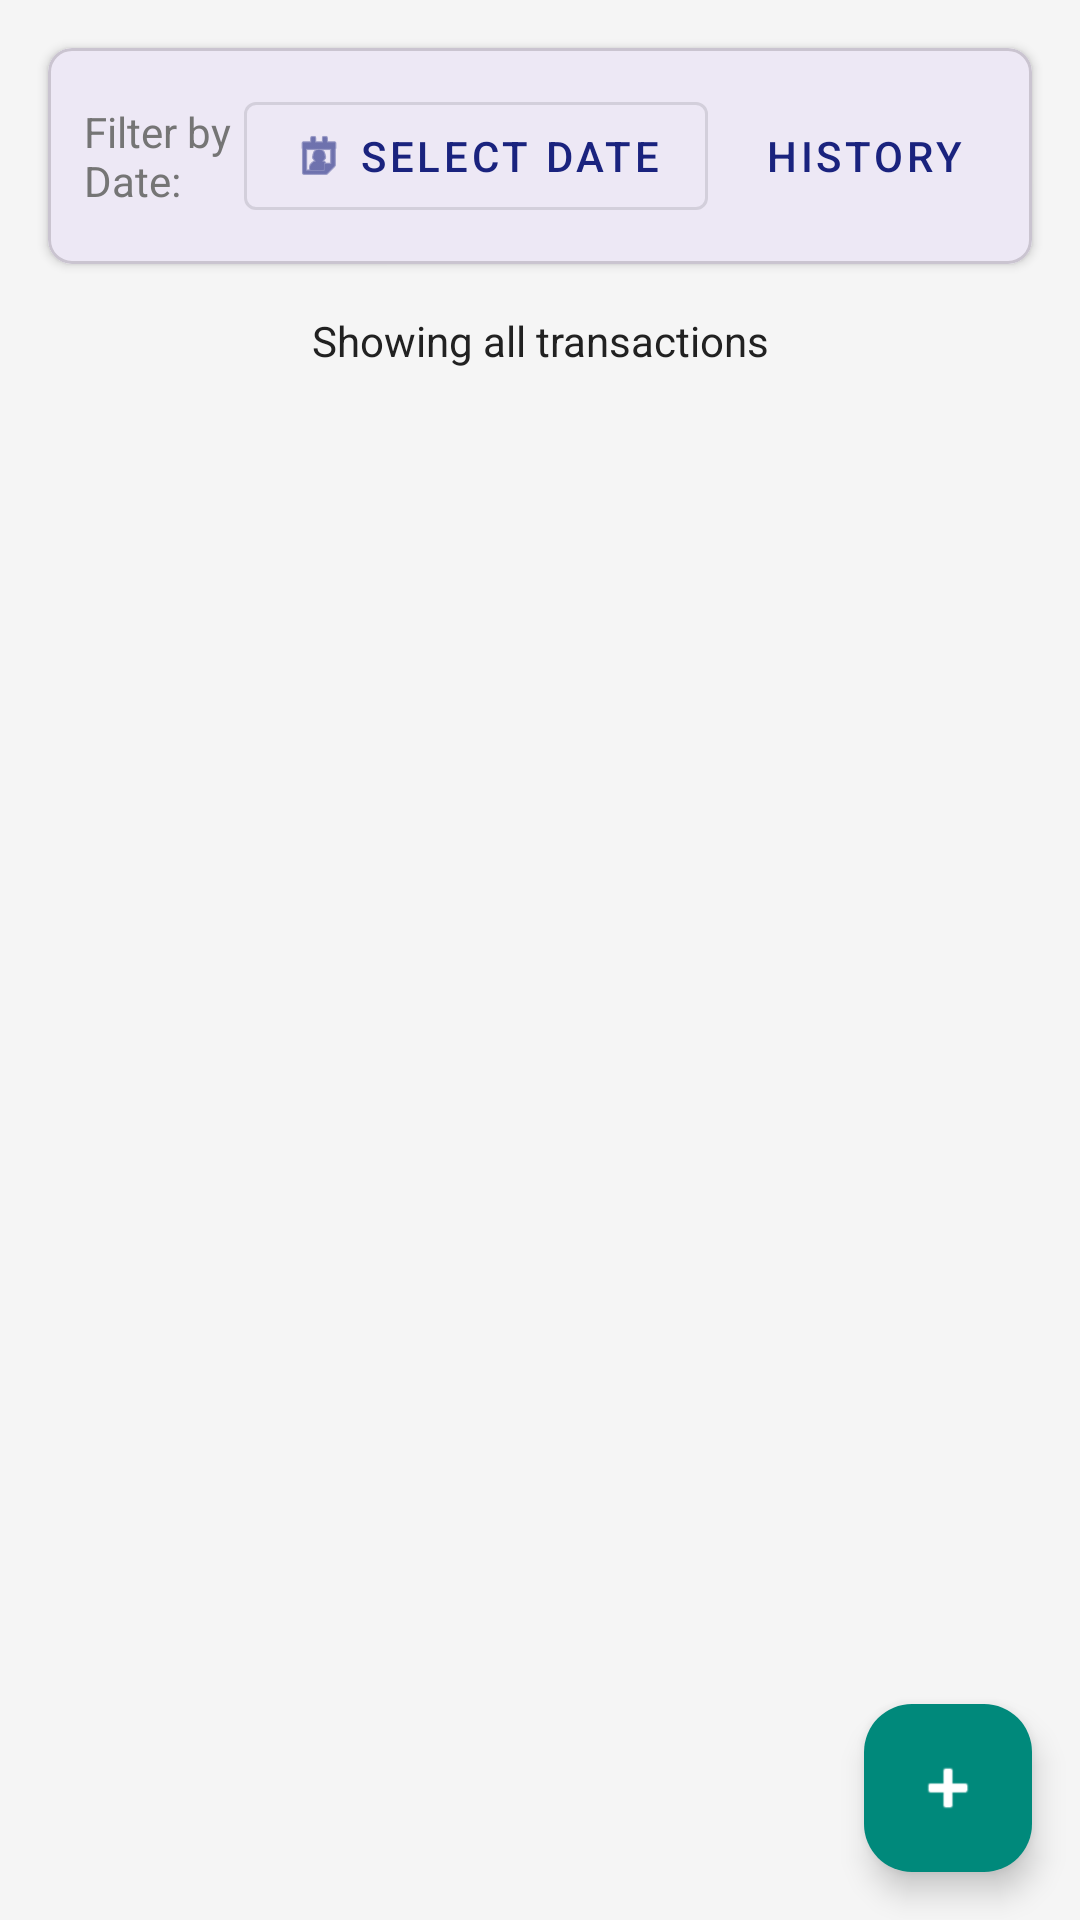

Icon bounding boxes for this 1080px x 1920px phone screenshot, format (x1, y1, x2, y2):
Add Transaction: (864, 1704, 1032, 1872)
